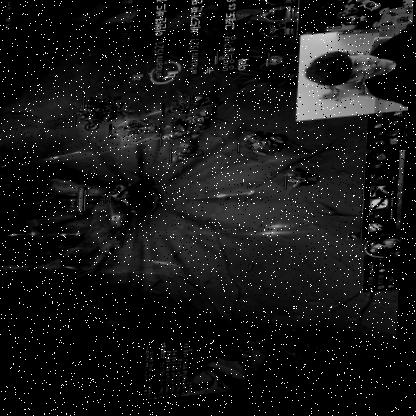streamer: (303, 34, 413, 127)
